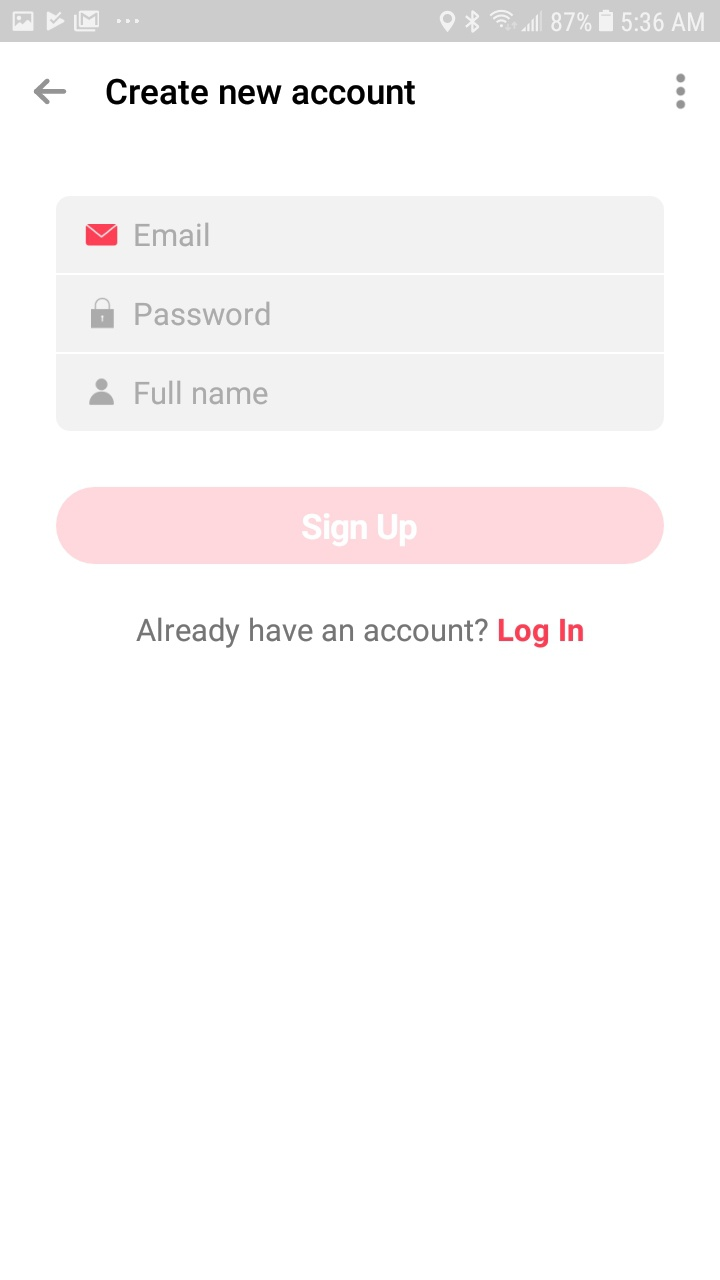EditText: (57, 276, 664, 353), (57, 355, 664, 432), (57, 197, 664, 274)
Icon: (34, 79, 67, 106), (86, 224, 119, 247), (91, 298, 115, 329), (89, 378, 115, 406), (675, 74, 687, 111)
Text: (136, 617, 584, 649), (107, 78, 416, 106), (136, 301, 271, 326), (134, 381, 268, 406), (135, 222, 209, 247)
TextButton: (56, 487, 664, 565)
UpperTaskBar: (1, 1, 720, 43)
